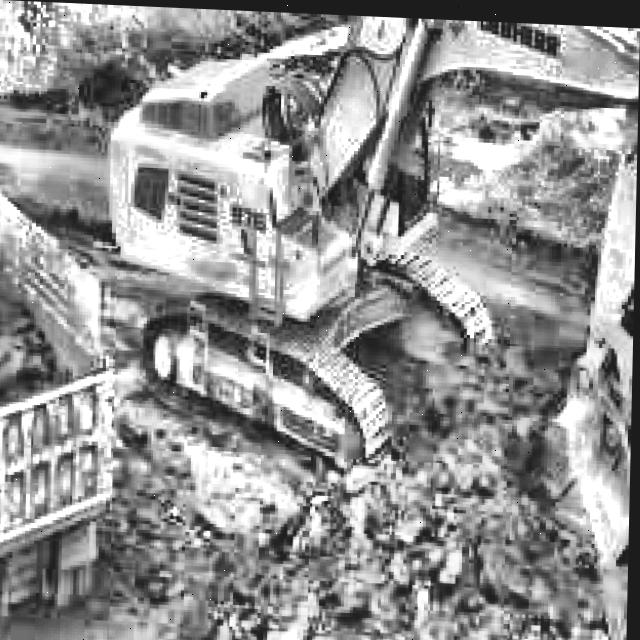dump_truck: (0, 144, 123, 640)
excavator: (97, 4, 640, 576)
